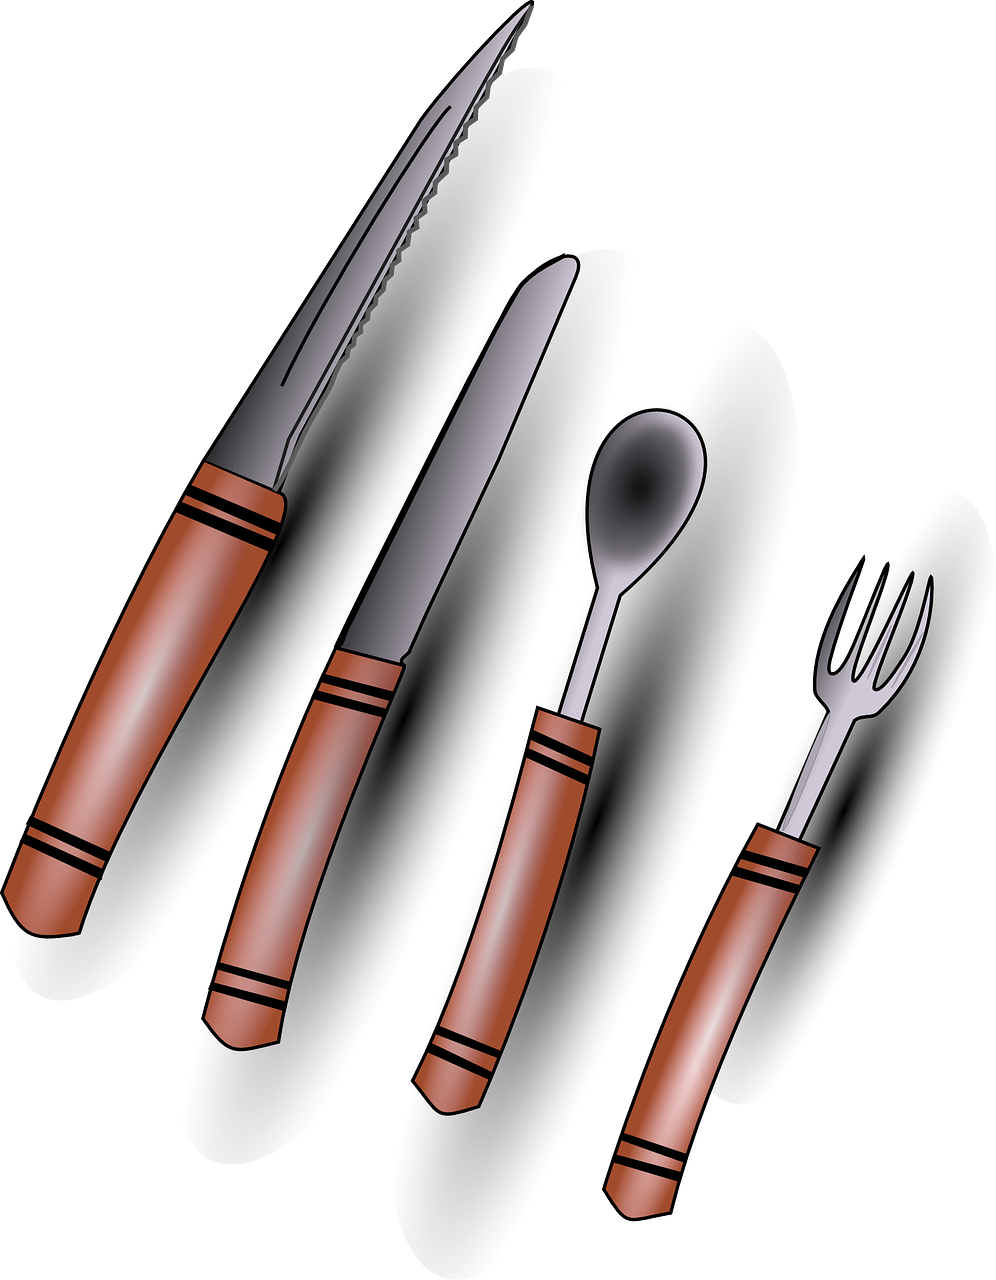knife: (1, 0, 554, 953), (190, 249, 599, 1055)
